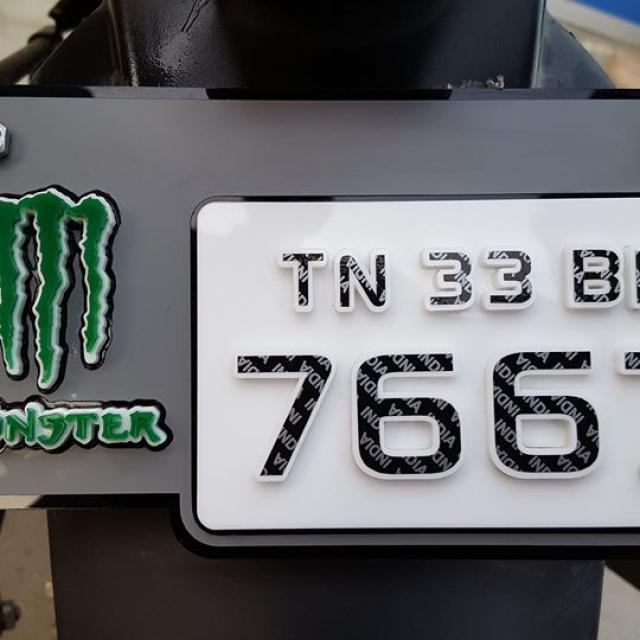plate: (187, 193, 640, 536)
